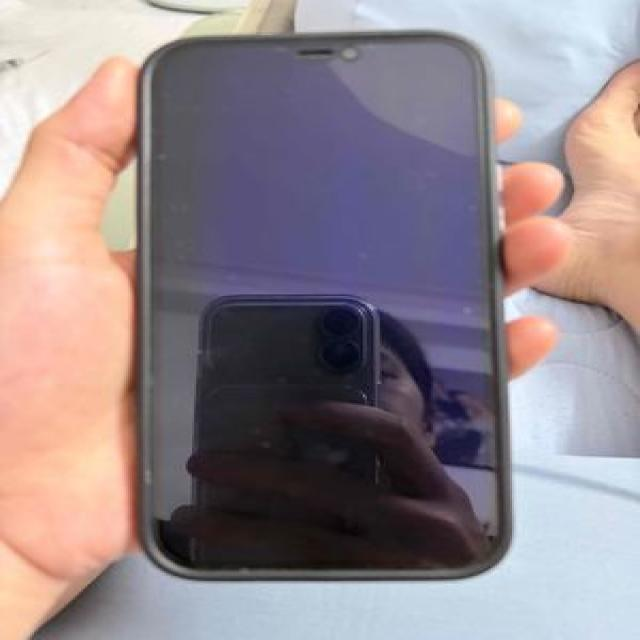gen_12_13: (112, 26, 516, 594)
